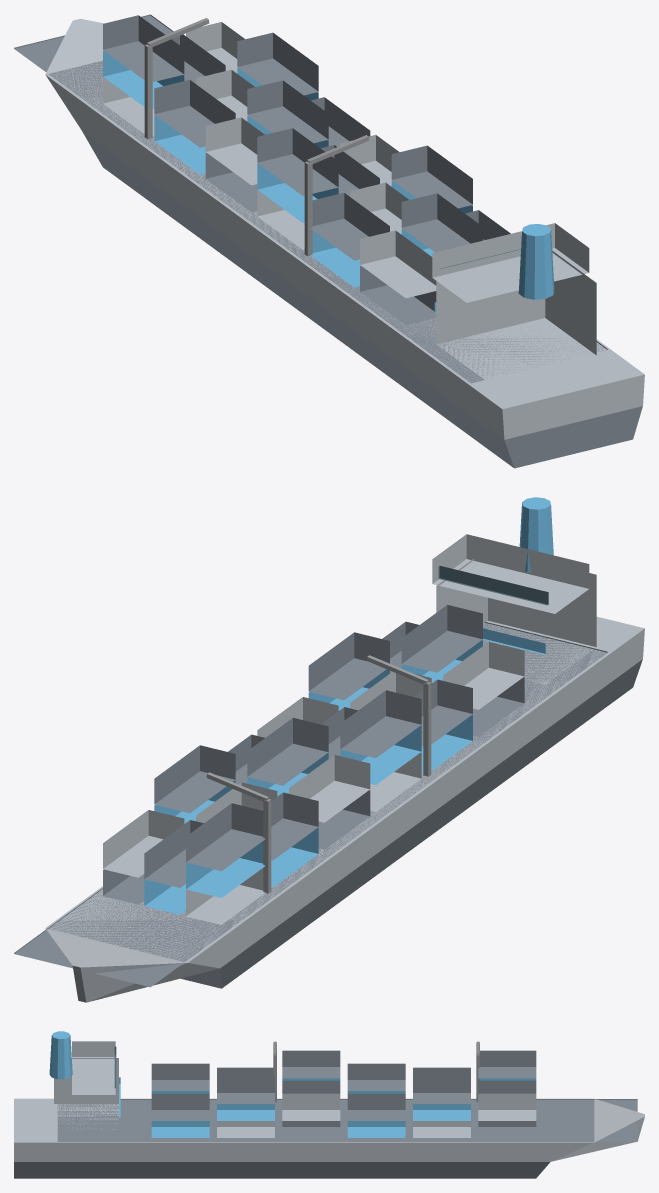
Rendered from elite_cargo_ship.glb.
The picture shows the model from 3 angles, top to bottom: view 1: azimuth 30°, elevation 25°; view 2: azimuth 150°, elevation 25°; view 3: azimuth 270°, elevation 25°; orthographic projection. The views are drawn at different scales.
Parts seen in each view (by area): view 1: elite_cargo_ship; view 2: elite_cargo_ship; view 3: elite_cargo_ship.
Part boxes in pixels (box(x1,y1,x2,y2)): elite_cargo_ship: box(14, 14, 644, 468); elite_cargo_ship: box(14, 497, 644, 1002); elite_cargo_ship: box(14, 1031, 644, 1178).
Size of the model in its own units: 14.4 by 19 by 87.
